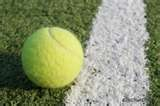tennis ball: (20, 26, 85, 90)
